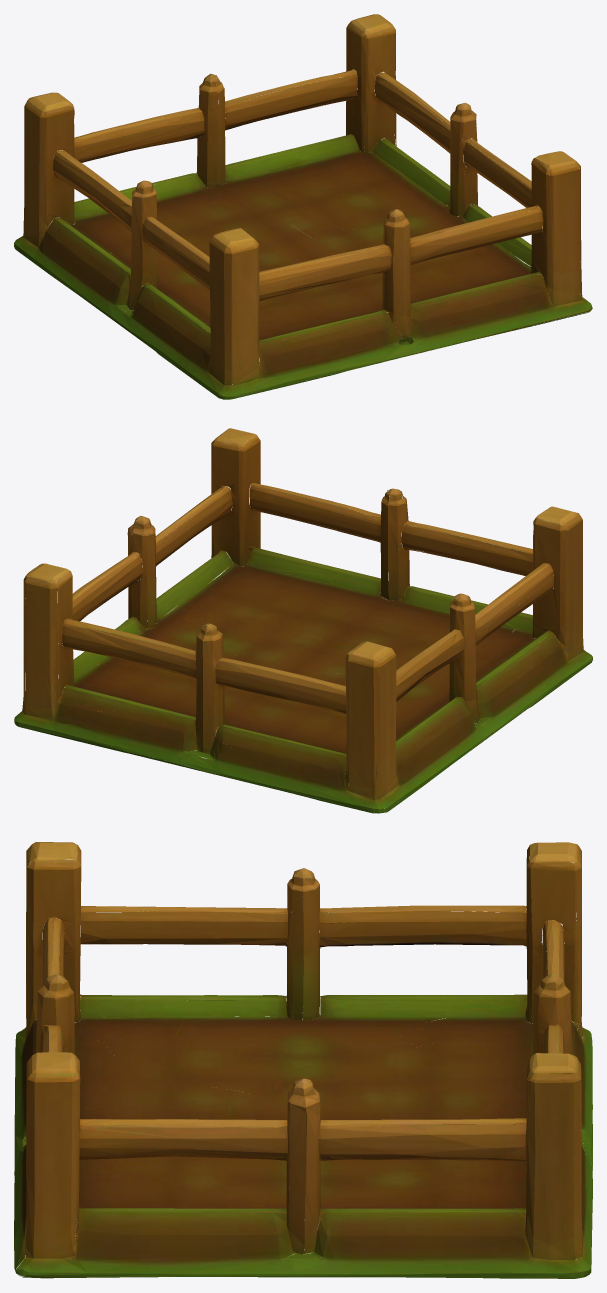
File: empty_farm_land1.glb
The picture shows the model from 3 angles, top to bottom: view 1: azimuth 30°, elevation 25°; view 2: azimuth 150°, elevation 25°; view 3: azimuth 270°, elevation 25°; orthographic projection. The views are drawn at different scales.
Visible parts, largest first — view 1: geometry_0; view 2: geometry_0; view 3: geometry_0.
Boxes of the visible parts, left/top/right/bottom form: geometry_0: left=14, top=14, right=592, bottom=399; geometry_0: left=14, top=428, right=592, bottom=813; geometry_0: left=14, top=842, right=592, bottom=1278.
Size of the model in its own units: 1 by 0.3907 by 0.9993.
Materials: 1 (1 with a texture image).
